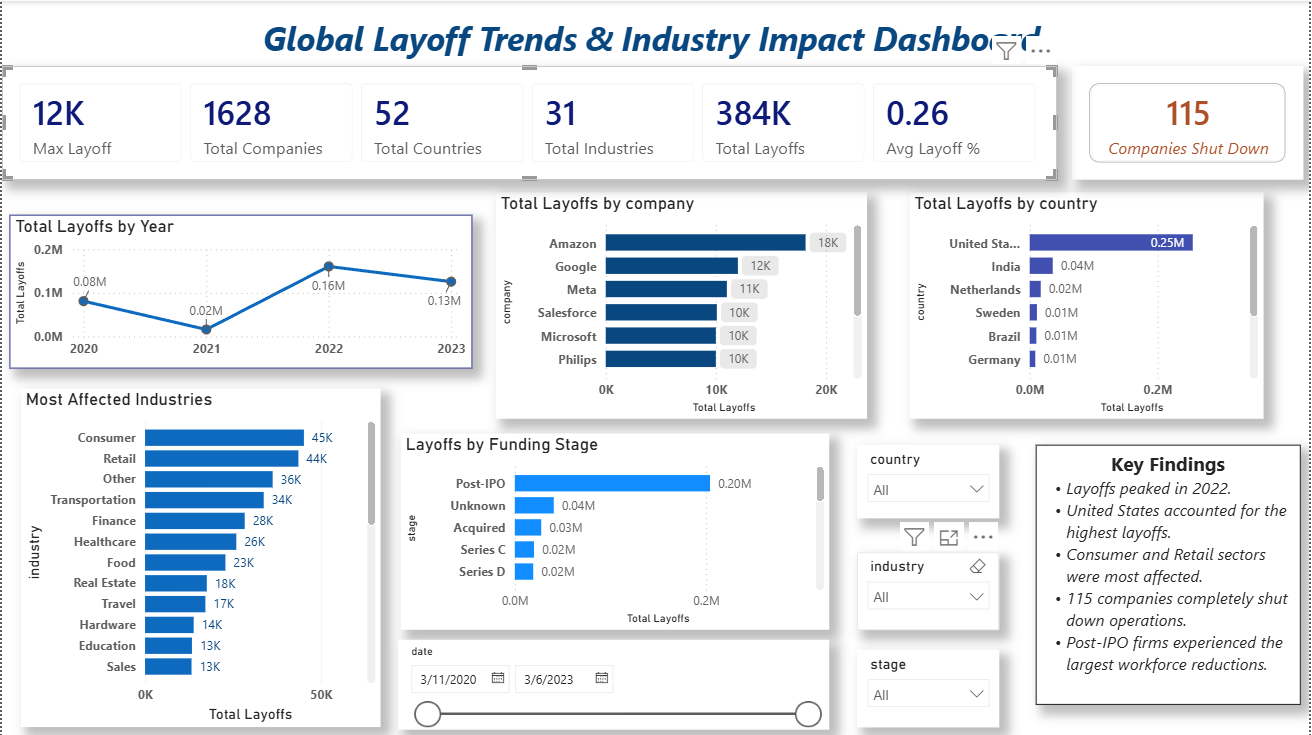

The dashboard page shown, as its layout file describes it:
{"tool":"powerbi","page":{"name":"Global Layoff Intelligence Dashboard (2020–2023)","canvas":[1280,720],"ordinal":0},"visuals":[{"type":"textbox","box":[0,9.6,1270.7,65.9],"z":0},{"type":"cardVisual","fields":{"Data":["layoffs_cleaned.Max Layoff","layoffs_cleaned.Total Companies","layoffs_cleaned.Total Countries","layoffs_cleaned.Total Industries","layoffs_cleaned.Total Layoffs","layoffs_cleaned.Average Layoff Percentage"]},"box":[0,63.6,1032.1,111.3],"z":1000},{"type":"lineChart","fields":{"Category":["layoffs_cleaned.date.Variation.Date Hierarchy.Year","layoffs_cleaned.date.Variation.Date Hierarchy.Quarter","layoffs_cleaned.date.Variation.Date Hierarchy.Month","layoffs_cleaned.date.Variation.Date Hierarchy.Day"],"Y":["layoffs_cleaned.Total Layoffs"]},"box":[7.3,209.1,452.4,150.4],"z":2000},{"type":"barChart","fields":{"Category":["layoffs_cleaned.company"],"Y":["layoffs_cleaned.Total Layoffs"]},"box":[483,187.1,363.2,221.3],"z":3000},{"type":"clusteredBarChart","title":"Most Affected Industries","fields":{"Category":["layoffs_cleaned.industry"],"Y":["layoffs_cleaned.Total Layoffs"]},"box":[18.3,379.1,352.2,331.4],"z":4000},{"type":"clusteredBarChart","fields":{"Category":["layoffs_cleaned.country"],"Y":["layoffs_cleaned.Total Layoffs"]},"box":[887.8,187.1,346.1,221.3],"z":5000},{"type":"clusteredBarChart","title":"Layoffs by Funding Stage","fields":{"Category":["layoffs_cleaned.stage"],"Y":["layoffs_cleaned.Total Layoffs"]},"box":[390.1,423.1,419.4,192],"z":6000},{"type":"slicer","fields":{"Values":["layoffs_cleaned.country"]},"box":[836.4,434.1,139.4,72.1],"z":6001},{"type":"slicer","fields":{"Values":["layoffs_cleaned.industry"]},"box":[836.4,539.3,139.4,75.8],"z":6002},{"type":"slicer","fields":{"Values":["layoffs_cleaned.stage"]},"box":[836.4,634.7,139.4,75.8],"z":6003},{"type":"slicer","fields":{"Values":["layoffs_cleaned.date"]},"box":[387.6,624.9,421.9,88],"z":6004},{"type":"cardVisual","fields":{"Data":["layoffs_cleaned.Companies Shut Down"]},"box":[1046.7,63.6,226.2,111.3],"z":6005},{"type":"textbox","box":[1011.3,434.1,259.2,254.3],"z":6006}]}

Visuals, with their boxes in screenshot pixels (x1, y1, x2, y2), scaled from the page's 1280x720 canvas onto the 1312x735 screenshot:
textbox: bbox=[0, 10, 1302, 77]
cardVisual - layoffs_cleaned.Max Layoff x layoffs_cleaned.Total Companies: bbox=[0, 65, 1058, 179]
lineChart - layoffs_cleaned.date.Variation.Date Hierarchy.Year x layoffs_cleaned.date.Variation.Date Hierarchy.Quarter: bbox=[7, 213, 471, 367]
barChart - layoffs_cleaned.company x layoffs_cleaned.Total Layoffs: bbox=[495, 191, 867, 417]
"Most Affected Industries" clusteredBarChart: bbox=[19, 387, 380, 725]
clusteredBarChart - layoffs_cleaned.country x layoffs_cleaned.Total Layoffs: bbox=[910, 191, 1265, 417]
"Layoffs by Funding Stage" clusteredBarChart: bbox=[400, 432, 830, 628]
slicer - layoffs_cleaned.country: bbox=[857, 443, 1000, 517]
slicer - layoffs_cleaned.industry: bbox=[857, 551, 1000, 628]
slicer - layoffs_cleaned.stage: bbox=[857, 648, 1000, 725]
slicer - layoffs_cleaned.date: bbox=[397, 638, 830, 728]
cardVisual - layoffs_cleaned.Companies Shut Down: bbox=[1073, 65, 1305, 179]
textbox: bbox=[1037, 443, 1302, 703]
